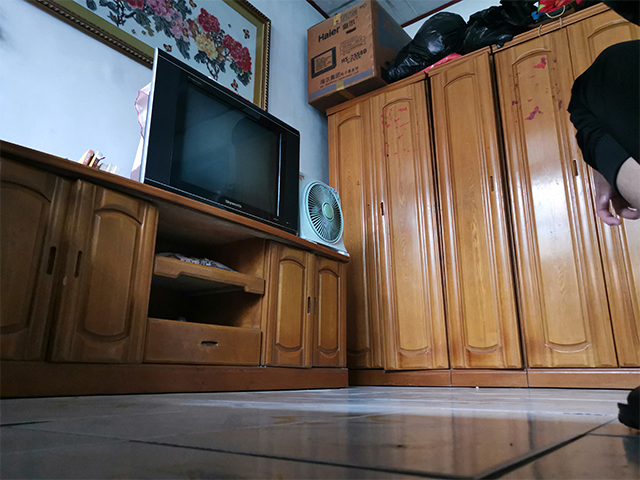cabinet: (320, 1, 639, 391), (1, 138, 353, 401)
